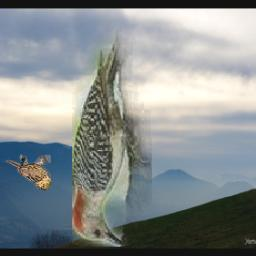Sparrow: (7, 155, 52, 190)
Woodpecker: (72, 29, 152, 247)
